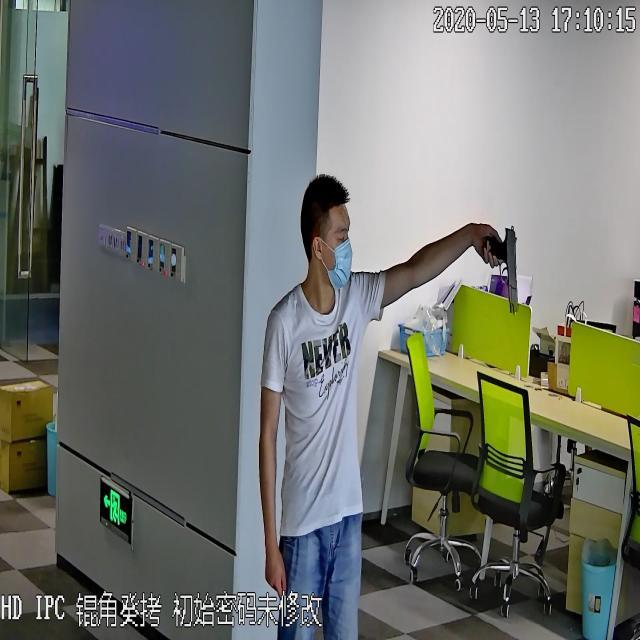gun: (480, 224, 523, 314)
